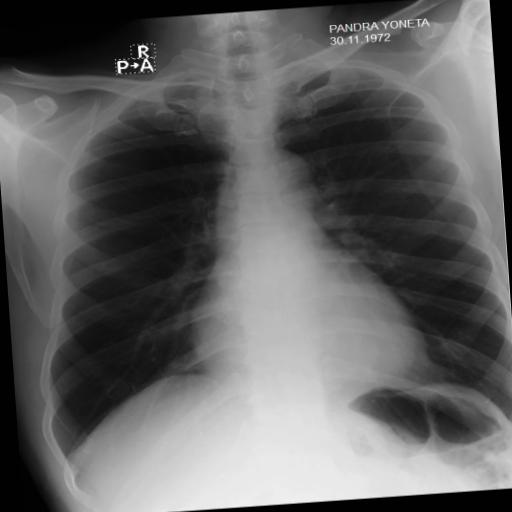kardiomegali: (11, 24, 512, 475)
